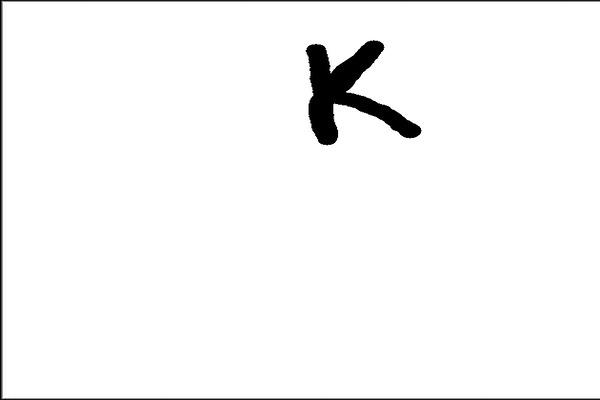K: (298, 33, 429, 157)
